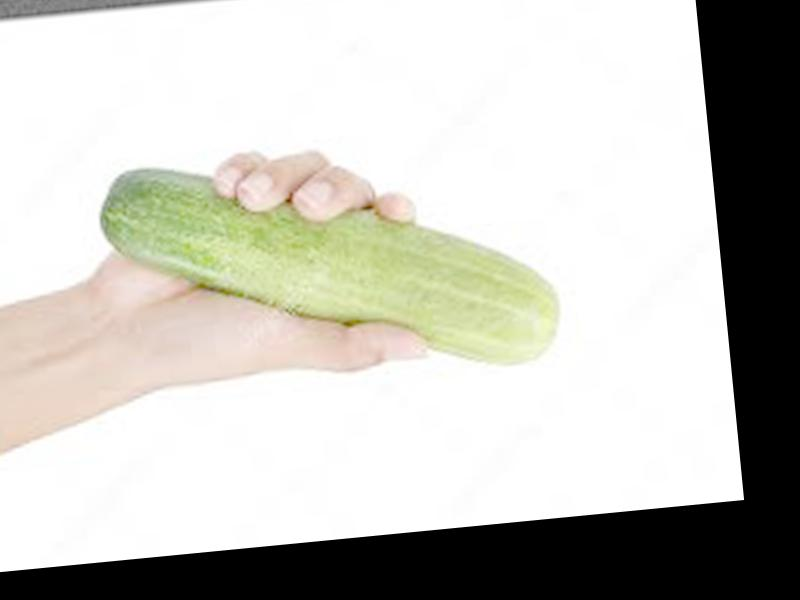Cucumber: (94, 133, 562, 406)
